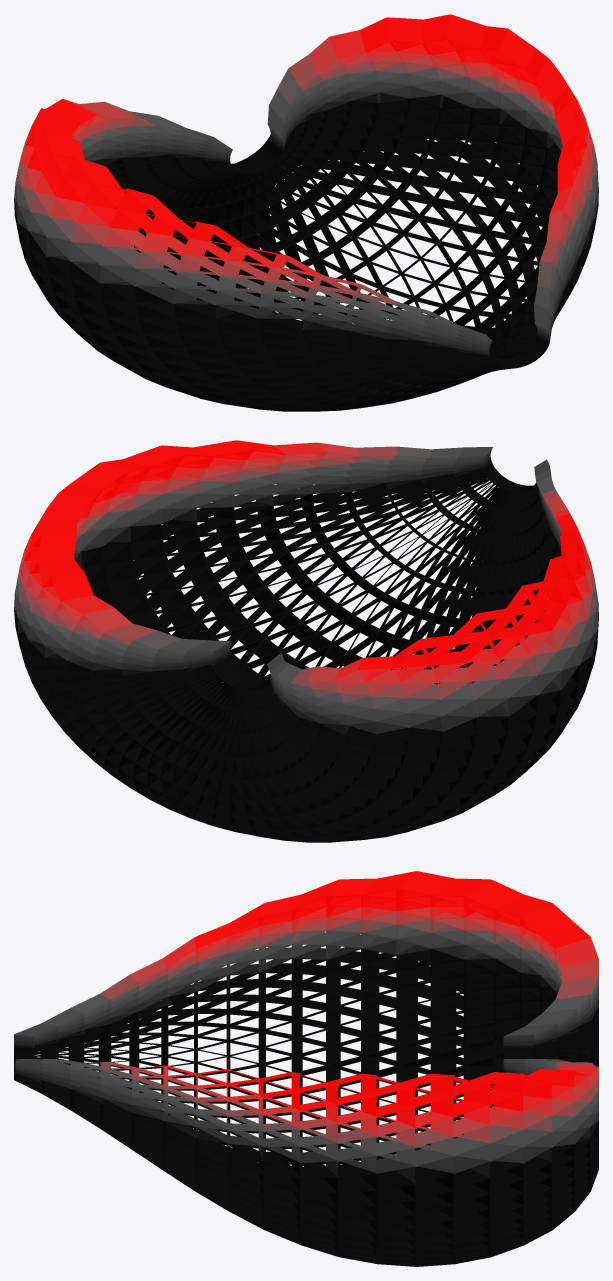
Rendered from DarkHeart.glb.
The picture shows the model from 3 angles, top to bottom: view 1: azimuth 30°, elevation 25°; view 2: azimuth 150°, elevation 25°; view 3: azimuth 270°, elevation 25°; orthographic projection. The views are drawn at different scales.
Bounding box in the file's own units: 0.5247 × 0.2696 × 0.5541.
